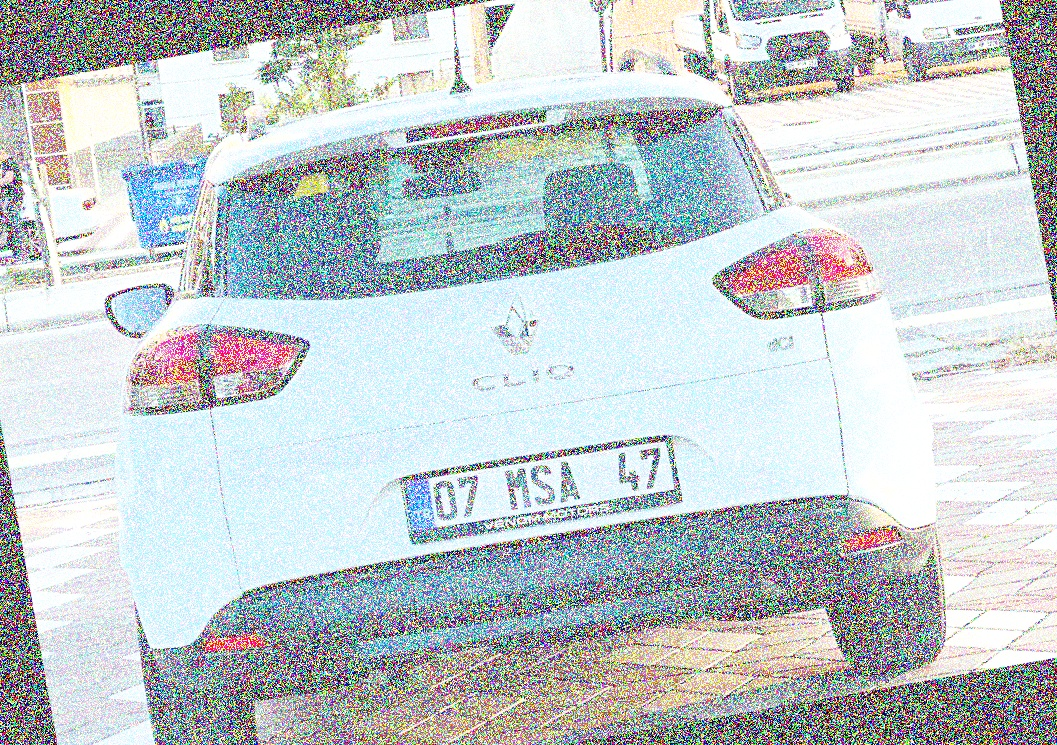plaka: (418, 439, 681, 515)
